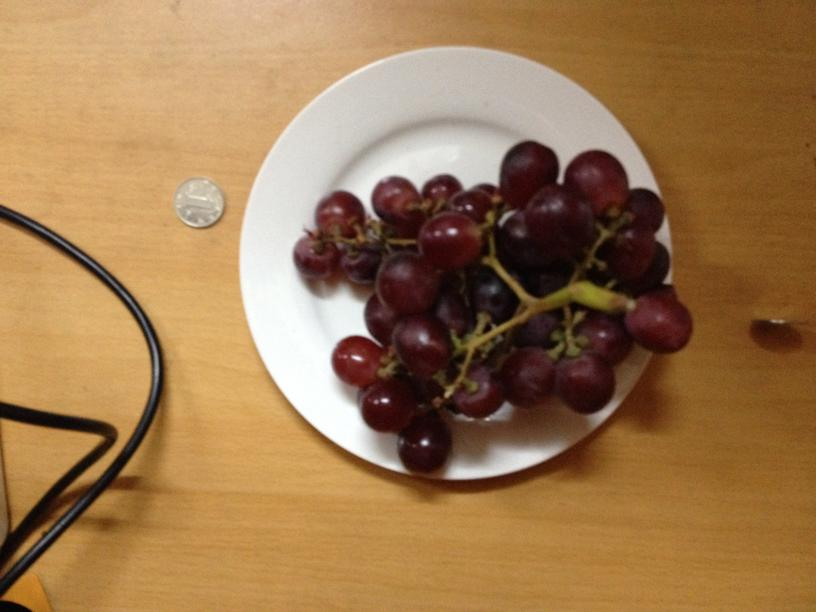coin: (176, 177, 224, 228)
grape: (294, 139, 693, 475)
